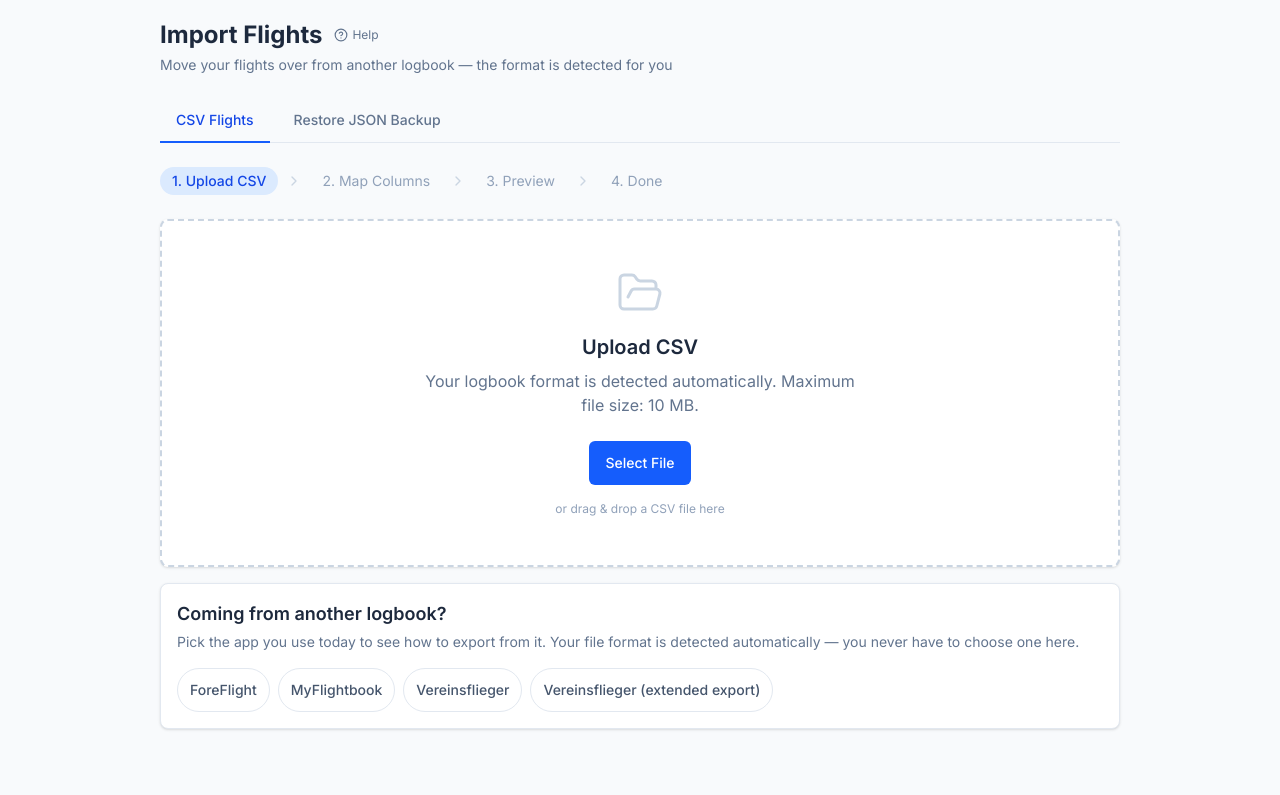
Test: ImportPage › labels the vendor link with its destination, not the template name
The width and height of the screenshot is (1280, 795).
Click the button "Vereinsflieger (extended export)": coordinates (652, 690) [530,668,773,712]
(page scrolled)
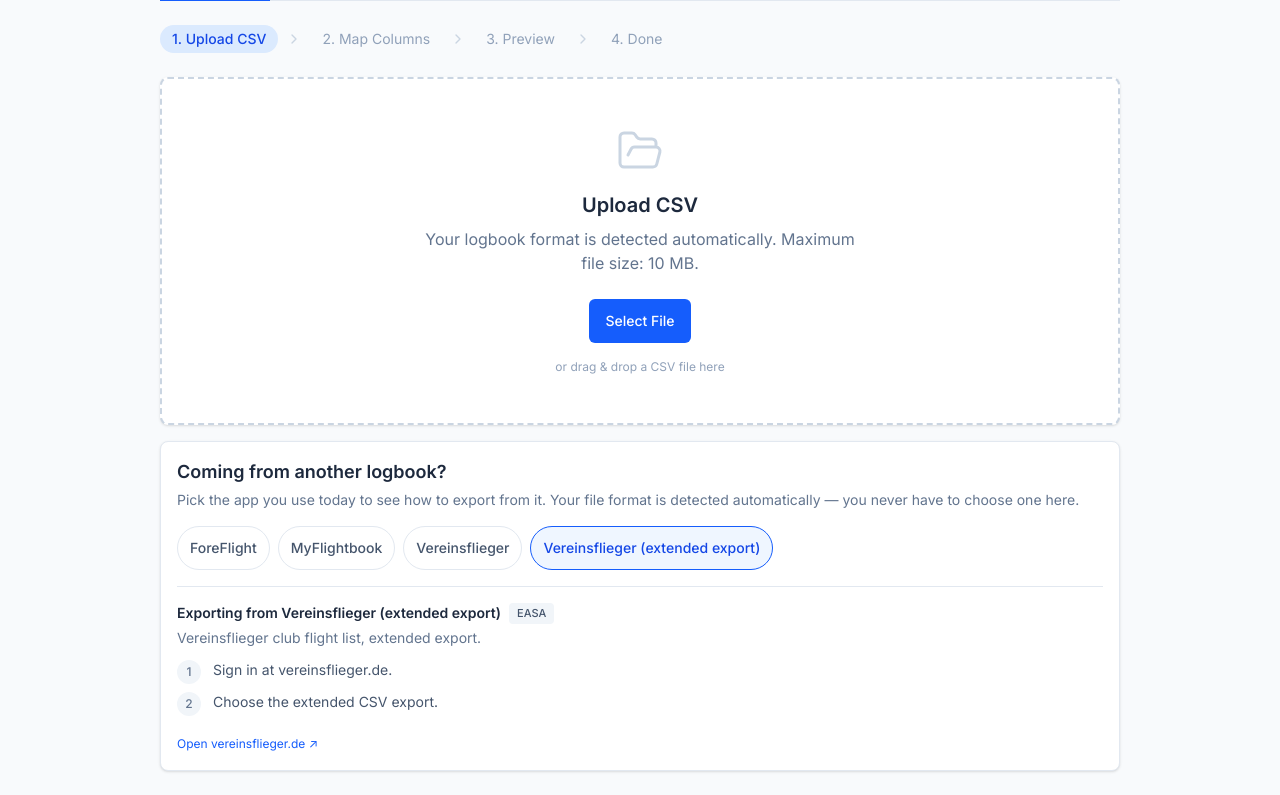
Check: the link "Open vereinsflieger.de ↗" does not show "extended export", box [177,736,318,752]
Check: the heading "Exporting from Vereinsflieger (extended export)" is shown, box [177,603,501,623]
